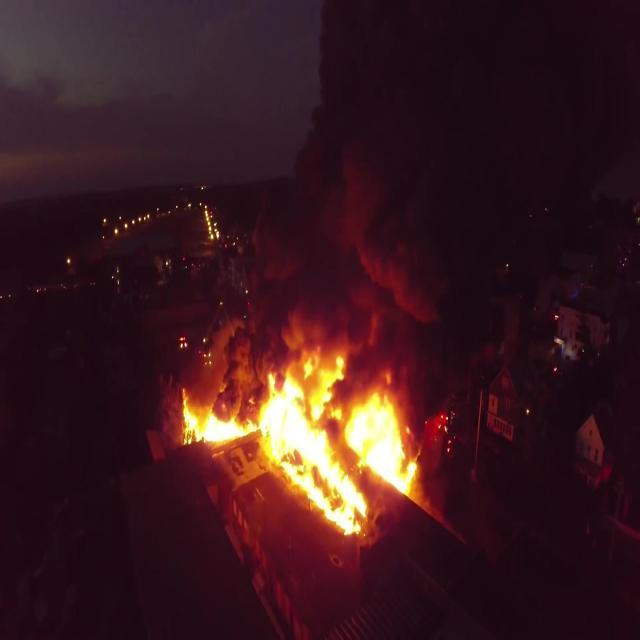Fire: (178, 330, 422, 542)
Smoke: (183, 0, 613, 474)
